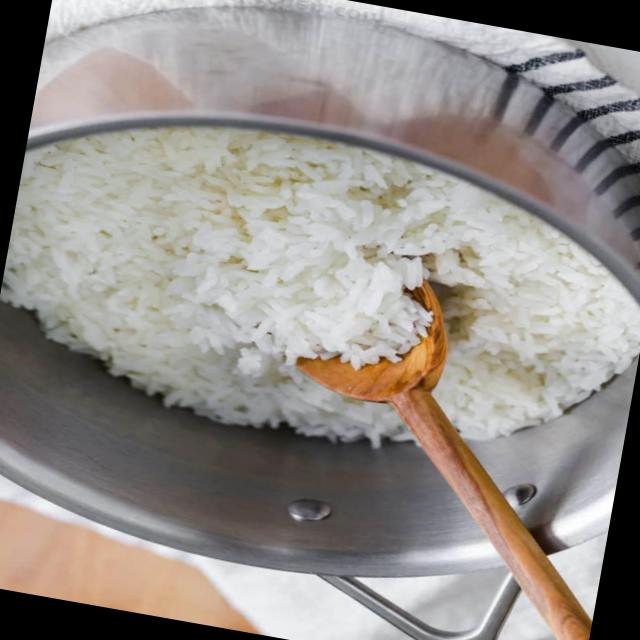rice: (3, 127, 640, 447)
